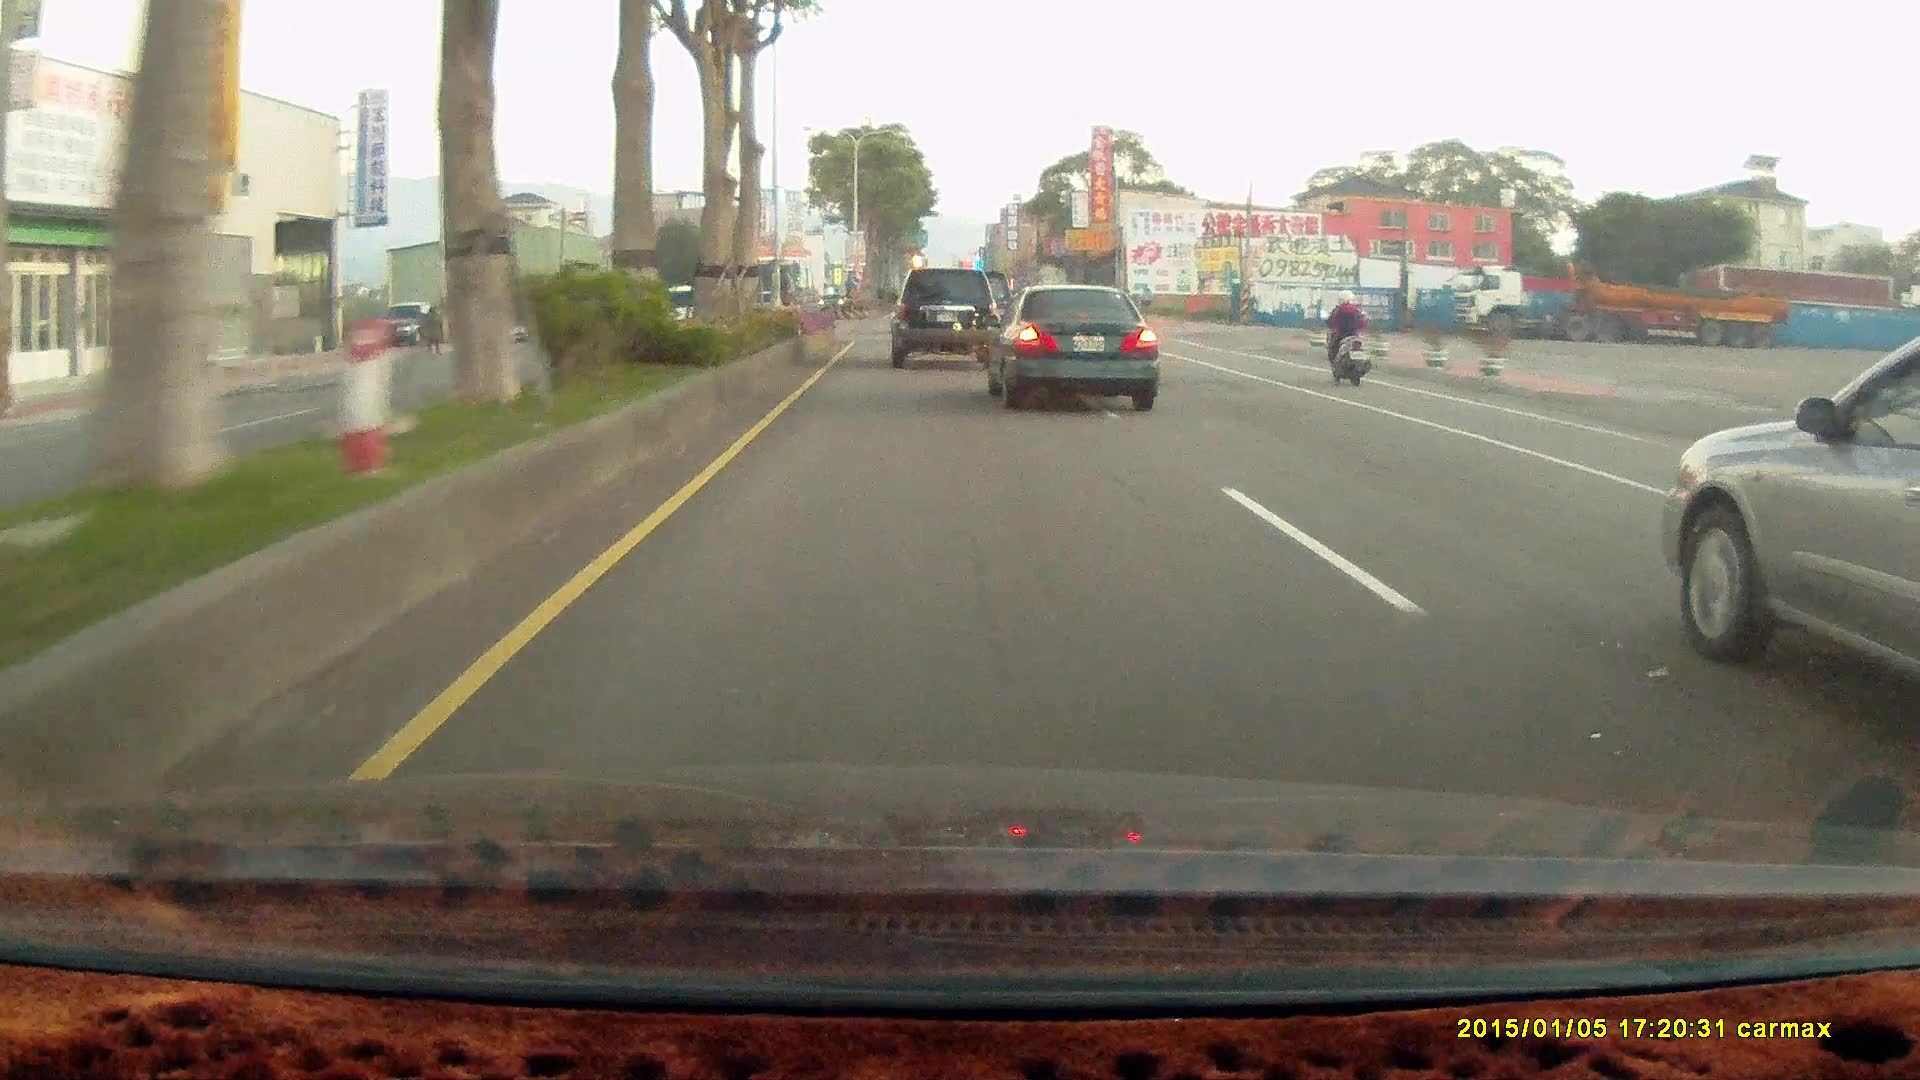pedestrian: (422, 300, 442, 356)
rider: (1313, 284, 1380, 391), (1316, 287, 1371, 384)
vehicle: (1657, 322, 1920, 701), (1445, 266, 1785, 349), (983, 282, 1161, 412), (983, 285, 1156, 407), (888, 263, 999, 366), (885, 265, 999, 366), (367, 298, 442, 350), (366, 298, 440, 347)
